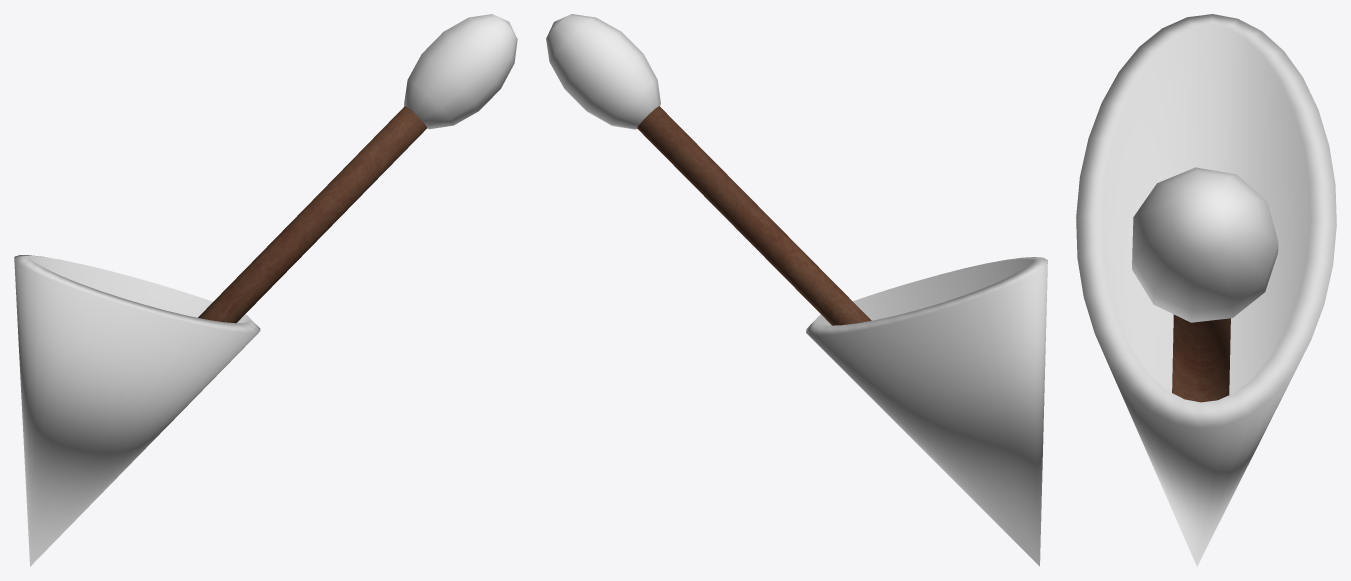
File: Torch.fbx
The picture shows the model from 3 angles, left to right: view 1: azimuth 30°, elevation 25°; view 2: azimuth 150°, elevation 25°; view 3: azimuth 270°, elevation 25°; orthographic projection. The views are drawn at different scales.
Parts seen in each view (by area): view 1: Holder, Handle, Sphere; view 2: Holder, Handle, Sphere; view 3: Holder, Sphere, Handle.
Boxes of the visible parts, left/top/right/bottom form: Holder: left=14, top=255, right=260, bottom=566; Handle: left=198, top=106, right=427, bottom=323; Sphere: left=404, top=14, right=517, bottom=129; Holder: left=806, top=257, right=1047, bottom=566; Handle: left=637, top=106, right=871, bottom=325; Sphere: left=546, top=14, right=660, bottom=129; Holder: left=1076, top=14, right=1336, bottom=566; Sphere: left=1132, top=167, right=1278, bottom=322; Handle: left=1172, top=314, right=1230, bottom=402.
Bounding box in the file's own units: 96.55 × 382 × 323.
Materials: 3 (1 with a texture image).
